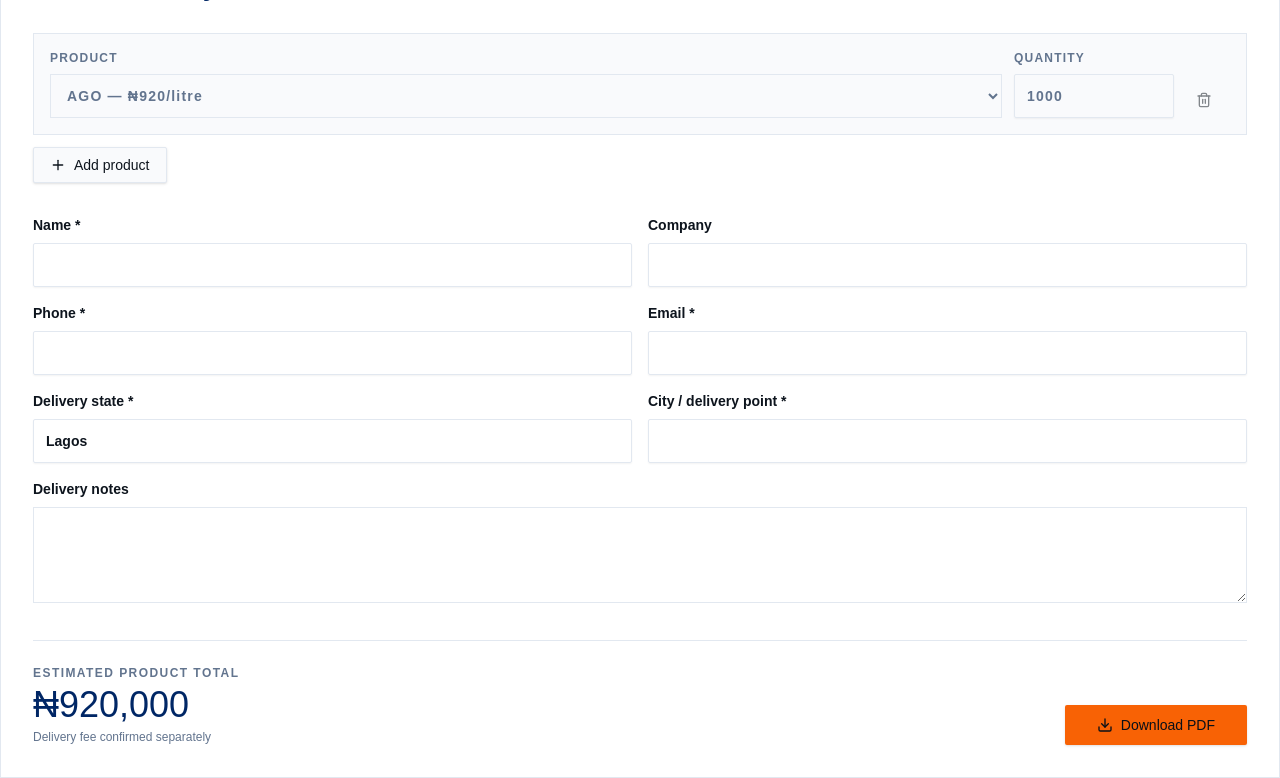
Test case: quote builder › rejects an empty form without generating a PDF
(page scrolled)
Step 1. Click the button "Download PDF" → (1156, 725), box [1065,705,1247,745]
(page scrolled)
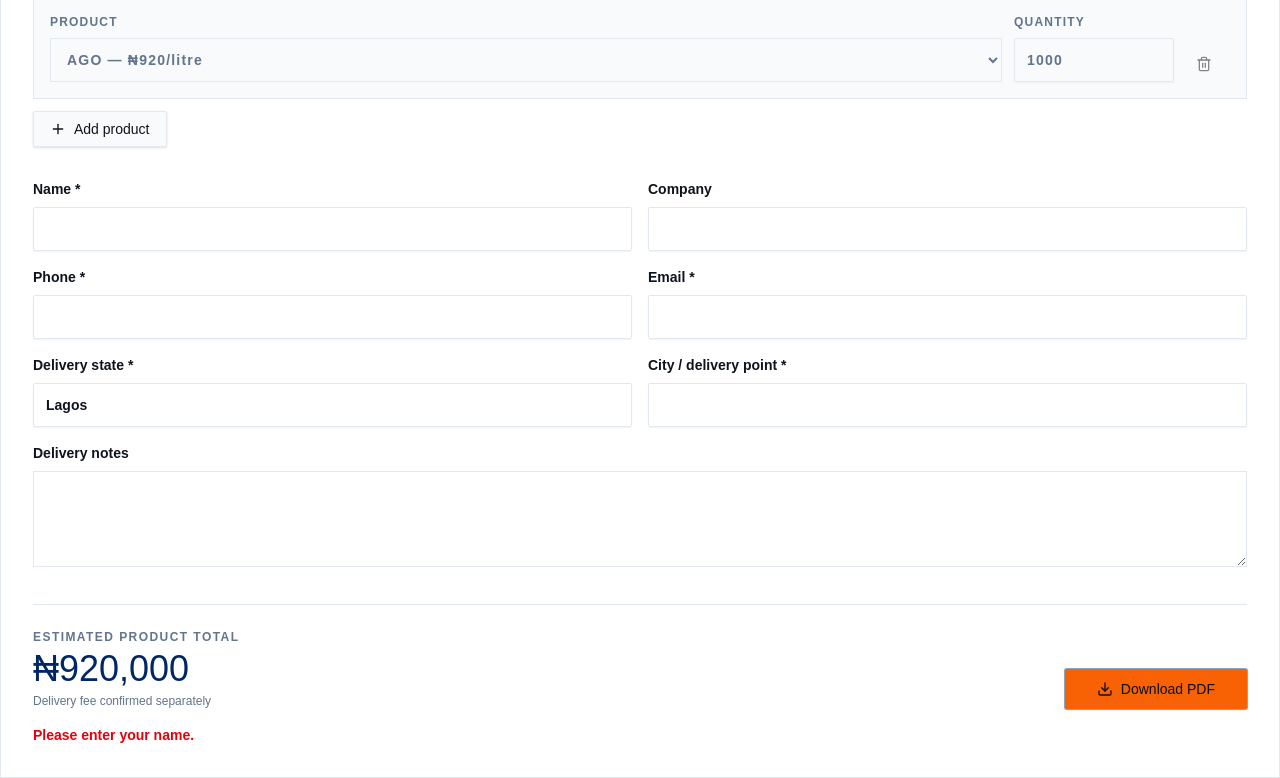
Expected: the message shows "Please enter your name", [33,727,194,743]
